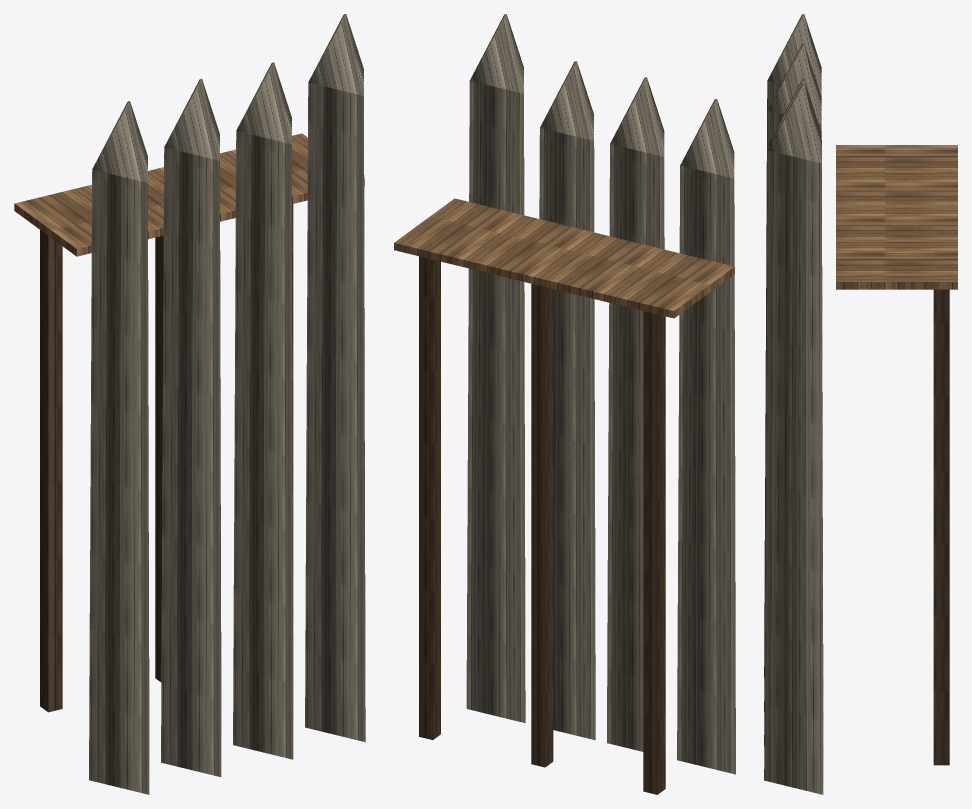
The model's file is Palisade_Rampart_1_LOD2.gltf.
3 renders of one model, left to right at view 1: azimuth 30°, elevation 25°; view 2: azimuth 150°, elevation 25°; view 3: azimuth 270°, elevation 25°, orthographic. The views are drawn at different scales.
Parts seen in each view (by area): view 1: Palisade_Rampart_1_LOD2; view 2: Palisade_Rampart_1_LOD2; view 3: Palisade_Rampart_1_LOD2.
Part boxes in pixels (x1,y1,x2,y2): Palisade_Rampart_1_LOD2: [14, 14, 365, 794]; Palisade_Rampart_1_LOD2: [394, 14, 735, 794]; Palisade_Rampart_1_LOD2: [764, 14, 957, 794].
Size of the model in its own units: 3.99 by 9.46 by 2.38.
Materials: 3 (3 with a texture image).
